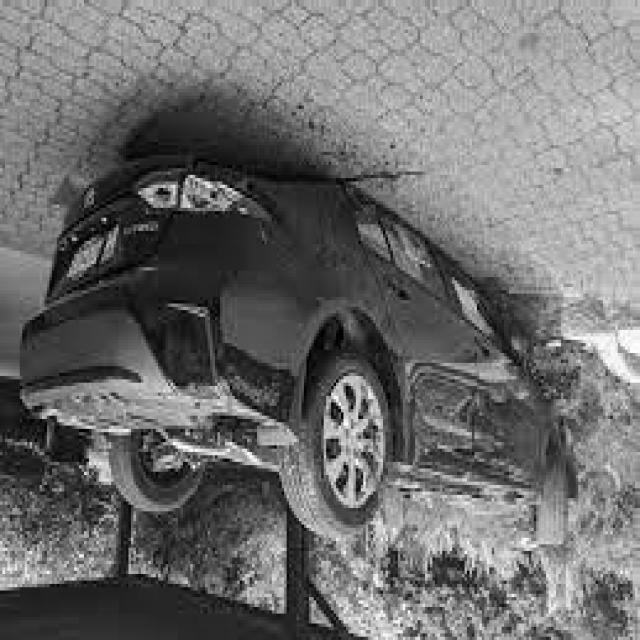severe: (18, 136, 568, 560)
